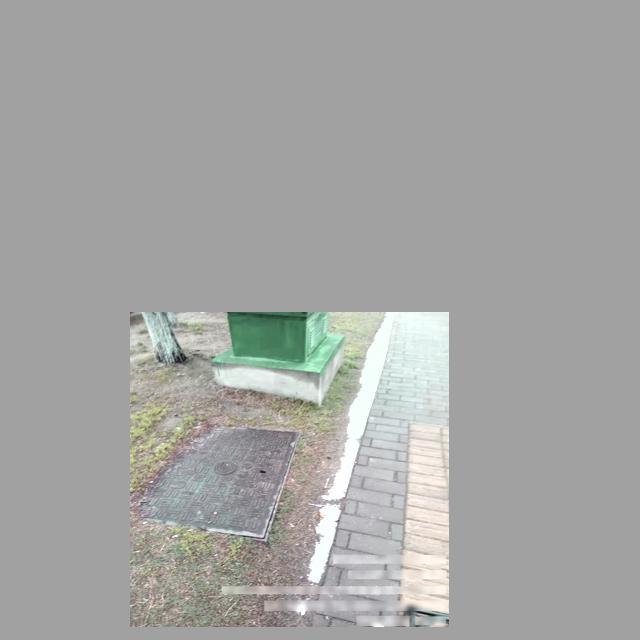good: (138, 426, 300, 540)
